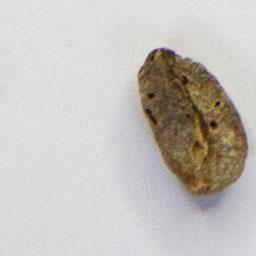defect: (133, 41, 253, 201)
